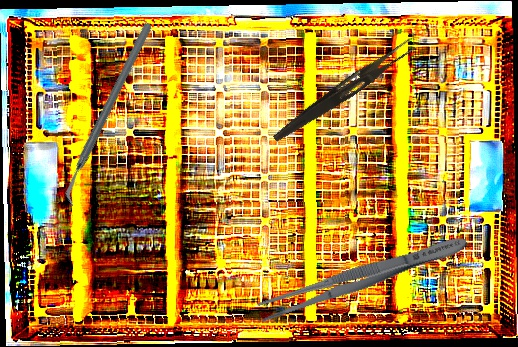Chopper: (9, 21, 208, 209)
Dressing Forceps: (254, 228, 472, 327), (271, 33, 416, 150)
